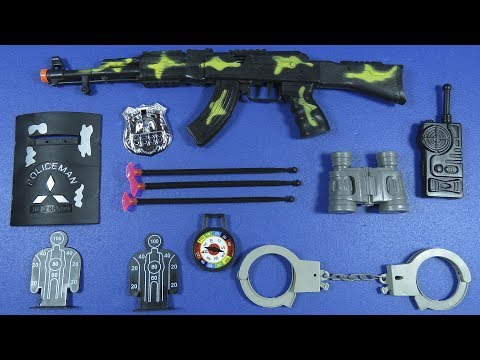Arma Falsa: (36, 50, 409, 146)
